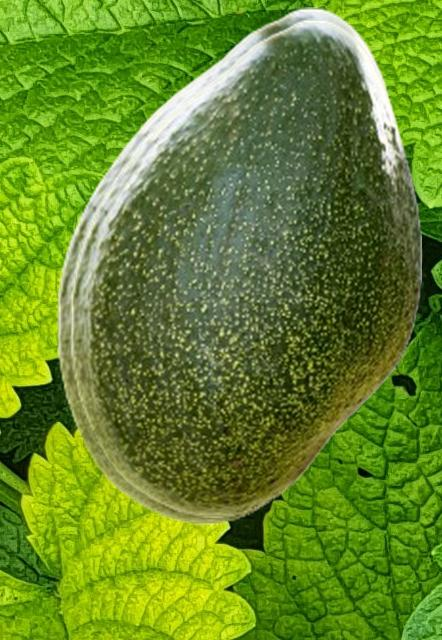avocado: (56, 7, 420, 523), (69, 18, 420, 516)
